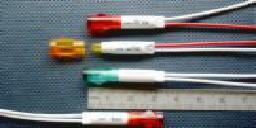LED: (1, 108, 166, 128), (46, 38, 161, 58), (83, 13, 173, 31), (78, 64, 125, 85)
